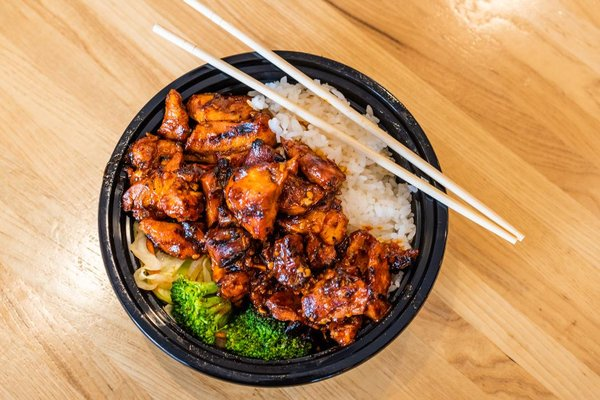curry: (218, 310, 314, 362), (169, 277, 232, 345)
sushi: (92, 6, 452, 388)
